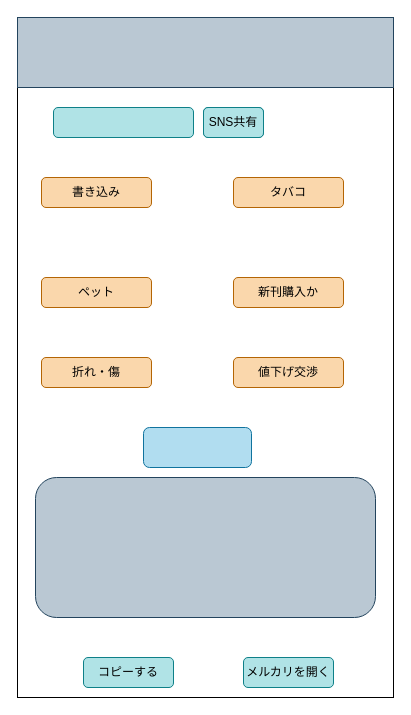
Image size: 411x715. Some labels were removed from this diagram. The shapes that lost their labels are listed below. From the top down, each one's centre as x and y in pixels, then its label:
At (x=205, y=52): "商品説明文メーカー（ベータ版/本特化VER）".
At (x=123, y=122): "このツールについて".
At (x=197, y=447): "生成".
At (x=205, y=547): "出力".
